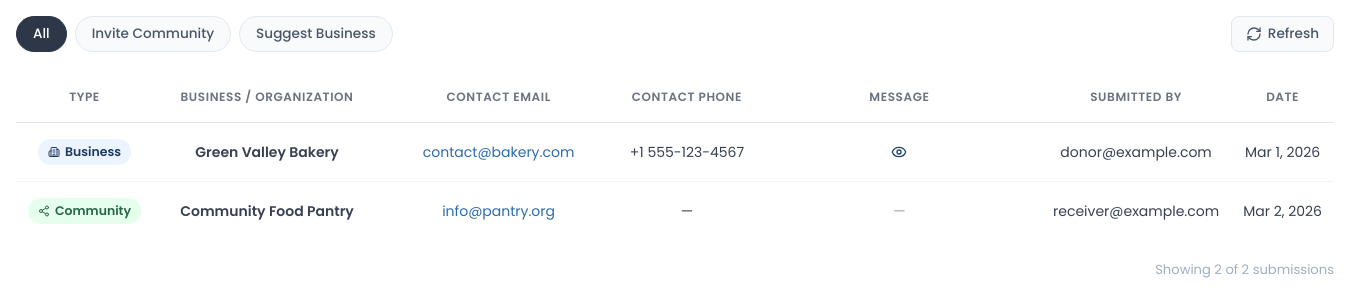
Test: AdminReferrals › filters by INVITE_COMMUNITY type
The image size is (1351, 295).
Check: the table with test id "referrals-table" is shown, box top-left (16, 72), bottom-right (1334, 240)
Step 1. Click the button "Invite Community" → (153, 34), box top-left (75, 16), bottom-right (231, 52)
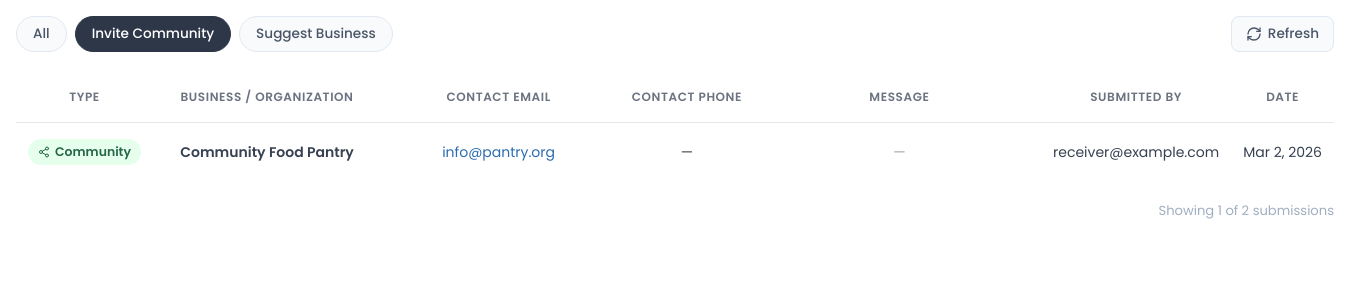
Check: the text "Community Food Pantry" is shown, box top-left (153, 122), bottom-right (381, 181)
Check: the text "Green Valley Bakery" is gone
Check: the text "Showing 1 of 2 submissions" is shown, box top-left (1158, 201), bottom-right (1334, 220)
